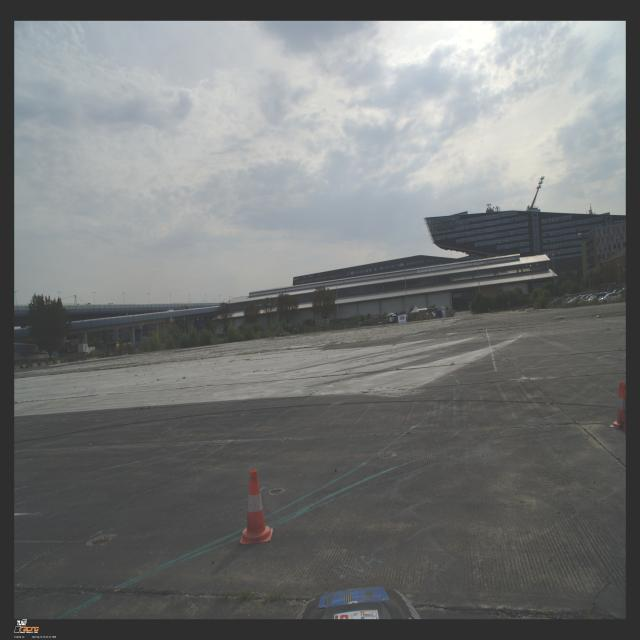orange_cone: (239, 469, 273, 544), (608, 382, 626, 429)
